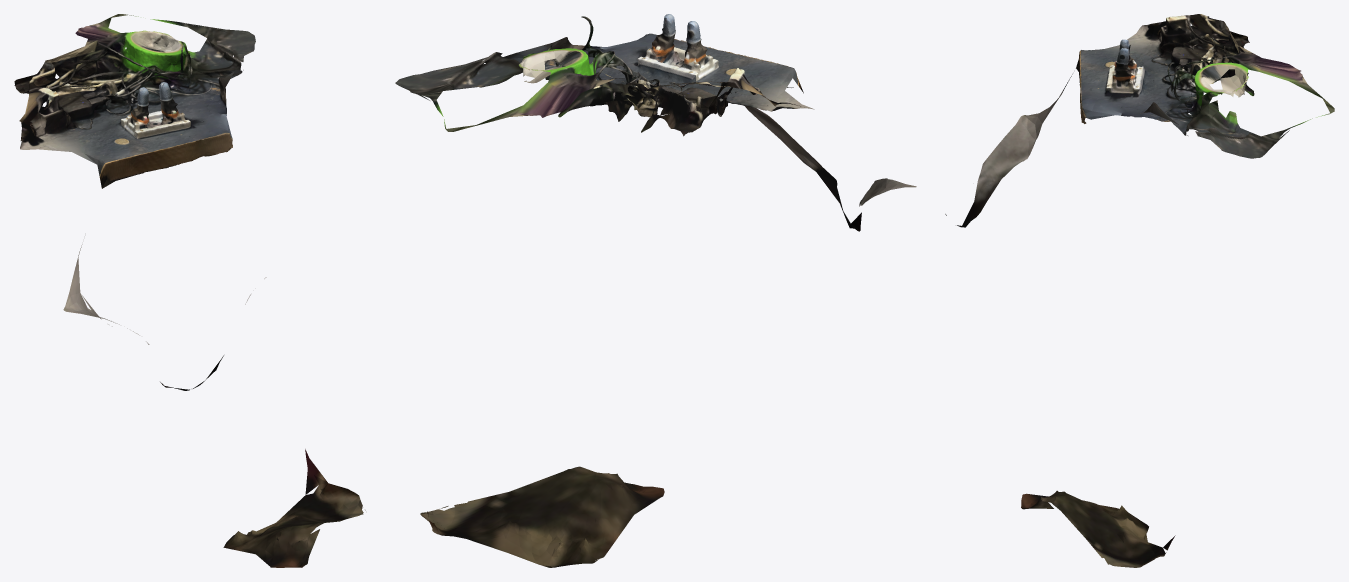
File: scan.glb
3 renders of one model, left to right at view 1: azimuth 30°, elevation 25°; view 2: azimuth 150°, elevation 25°; view 3: azimuth 270°, elevation 25°, orthographic. The views are drawn at different scales.
Parts seen in each view (by area): view 1: mesh; view 2: mesh; view 3: mesh.
Part boxes in pixels (x1,y1,x2,y2): mesh: [14, 14, 365, 567]; mesh: [395, 14, 916, 567]; mesh: [945, 14, 1334, 567].
Size of the model in its own units: 0.646 by 0.8461 by 0.6648.
Materials: 1 (1 with a texture image).
